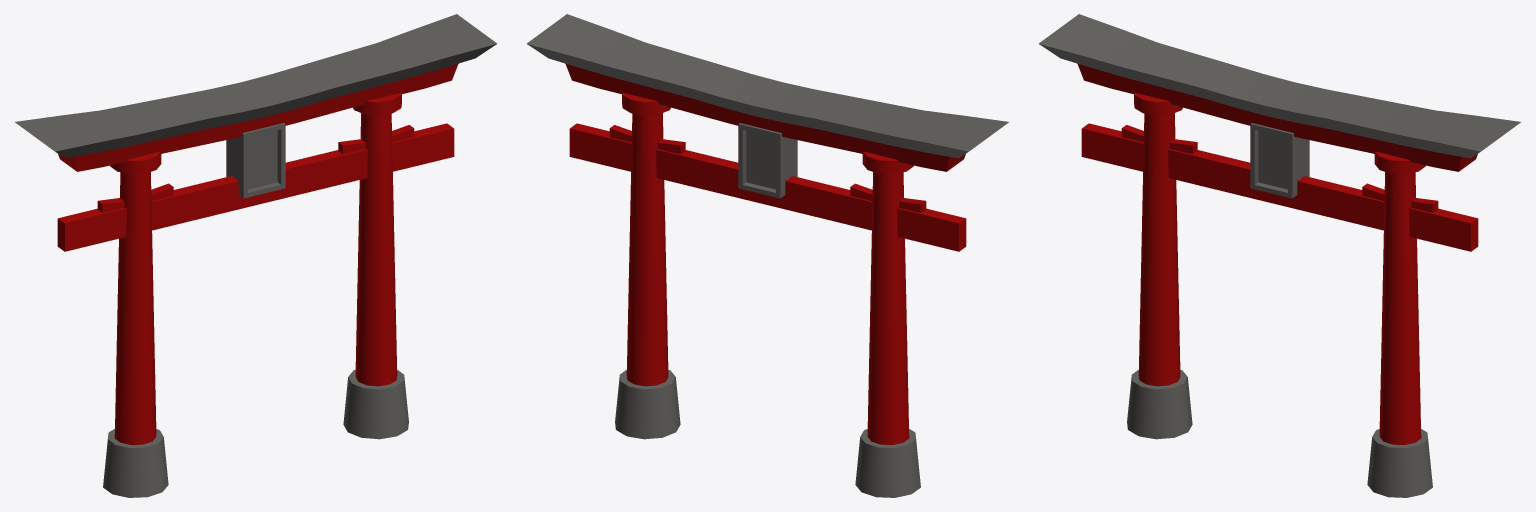
File: Torii gate.fbx
3 renders of one model, left to right at view 1: azimuth 30°, elevation 25°; view 2: azimuth 150°, elevation 25°; view 3: azimuth 330°, elevation 25°, orthographic.
Parts seen in each view (by area): view 1: polySurface3; view 2: polySurface3; view 3: polySurface3.
Part boxes in pixels (x1,y1,x2,y2): polySurface3: (15,14,497,497); polySurface3: (526,14,1008,497); polySurface3: (1038,14,1520,497).
Size of the model in its own units: 400 by 321 by 63.59.
